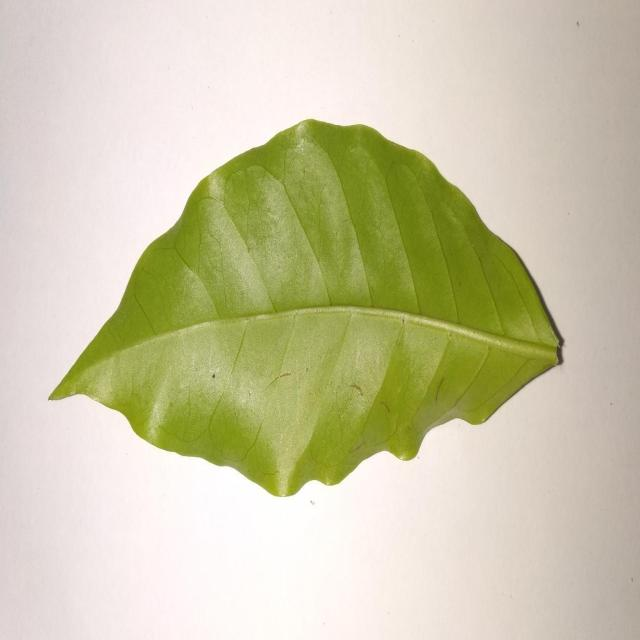Sanas: (49, 120, 564, 501)
